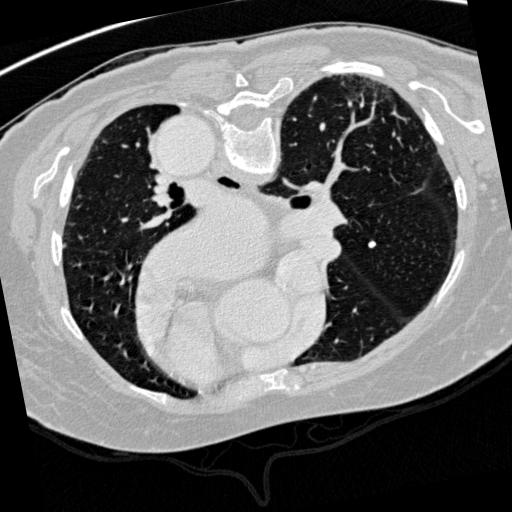nodule: (366, 239, 380, 253)
